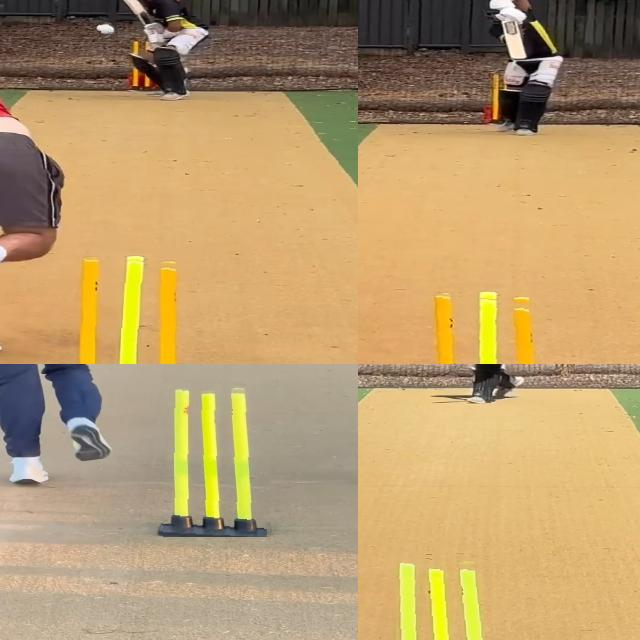Cricket ball: (95, 22, 117, 36)
Stumps: (157, 384, 273, 537), (60, 256, 197, 364), (420, 291, 546, 364), (389, 551, 490, 640)
